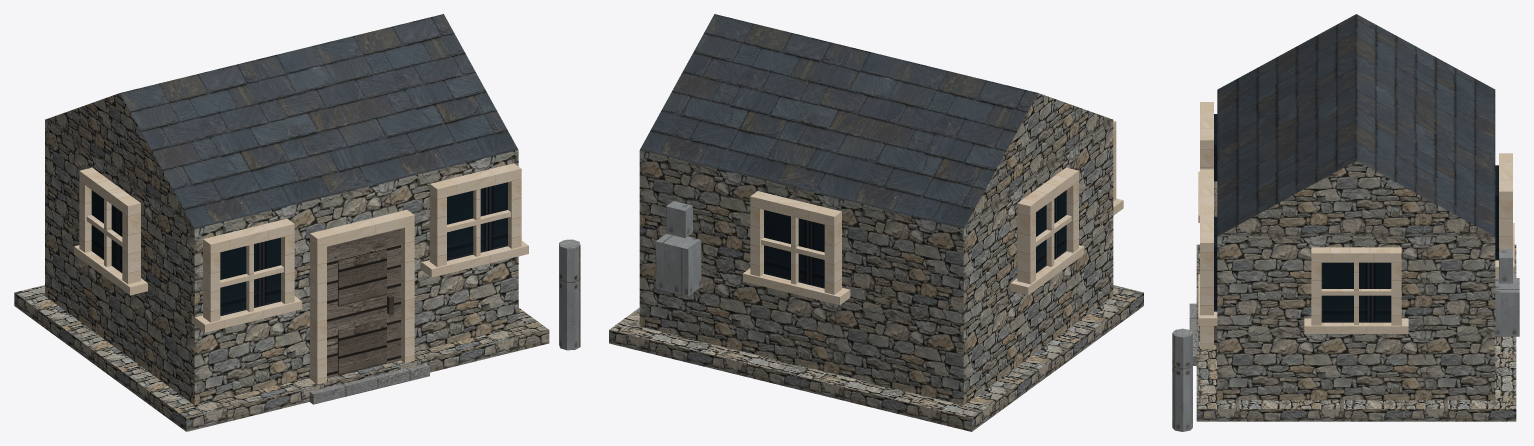
The model's file is pump-house_lod0.gltf.
3 views of the same model, side by side, from view 1: azimuth 30°, elevation 25°; view 2: azimuth 150°, elevation 25°; view 3: azimuth 270°, elevation 25° (orthographic). The views are drawn at different scales.
Parts seen in each view (by area): view 1: pump-house_roof, pump-house_walls, pump-house_fen_04-limestone_0, pump-house__plinth, pump-house_fen_07-glass-curtain-blue_5_t, pump-house_gable_ends, pump-house_fen_18-timber-siding_1, pump-house_fen_18-timber-siding_2_t, pump-house__wellhead_pipe, pump-house_fen_06-granite_4; view 2: pump-house_walls, pump-house_roof, pump-house__plinth, pump-house_fen_04-limestone_0, pump-house_gable_ends, pump-house_fen_07-glass-curtain-blue_5_t, pump-house_fen_14-steel-panel_6; view 3: pump-house_roof, pump-house_walls, pump-house_gable_ends, pump-house__plinth, pump-house_fen_04-limestone_0, pump-house_fen_07-glass-curtain-blue_5_t, pump-house__wellhead_pipe, pump-house_fen_14-steel-panel_6, pump-house_fen_06-granite_4.
Part boxes in pixels (box(x1,y1,x2,y2)): pump-house_roof: box(120, 14, 518, 228); pump-house_walls: box(45, 120, 518, 405); pump-house_fen_04-limestone_0: box(74, 163, 528, 384); pump-house__plinth: box(14, 285, 549, 431); pump-house_fen_07-glass-curtain-blue_5_t: box(91, 182, 507, 316); pump-house_gable_ends: box(45, 93, 194, 228); pump-house_fen_18-timber-siding_1: box(327, 228, 400, 378); pump-house_fen_18-timber-siding_2_t: box(338, 249, 386, 374); pump-house__wellhead_pipe: box(559, 239, 580, 350); pump-house_fen_06-granite_4: box(309, 363, 429, 404); pump-house_walls: box(639, 120, 1113, 405); pump-house_roof: box(640, 14, 1038, 228); pump-house__plinth: box(609, 285, 1143, 431); pump-house_fen_04-limestone_0: box(742, 120, 1123, 305); pump-house_gable_ends: box(964, 93, 1112, 228); pump-house_fen_07-glass-curtain-blue_5_t: box(764, 190, 1066, 288); pump-house_fen_14-steel-panel_6: box(655, 201, 701, 296); pump-house_roof: box(1217, 14, 1495, 236); pump-house_walls: box(1217, 236, 1495, 400); pump-house_gable_ends: box(1218, 161, 1494, 236); pump-house__plinth: box(1196, 244, 1516, 421); pump-house_fen_04-limestone_0: box(1198, 102, 1514, 348); pump-house_fen_07-glass-curtain-blue_5_t: box(1214, 114, 1498, 322); pump-house__wellhead_pipe: box(1172, 328, 1192, 431); pump-house_fen_14-steel-panel_6: box(1495, 249, 1519, 336); pump-house_fen_06-granite_4: box(1189, 303, 1196, 365).
Bounding box in the file's own units: 5.95 × 4 × 5.
